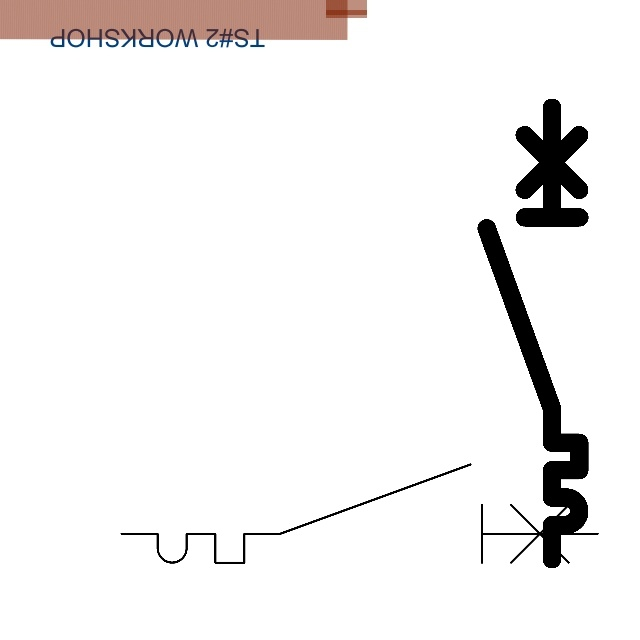interruptor_termomagnetico: (109, 452, 610, 575), (475, 96, 591, 571)
